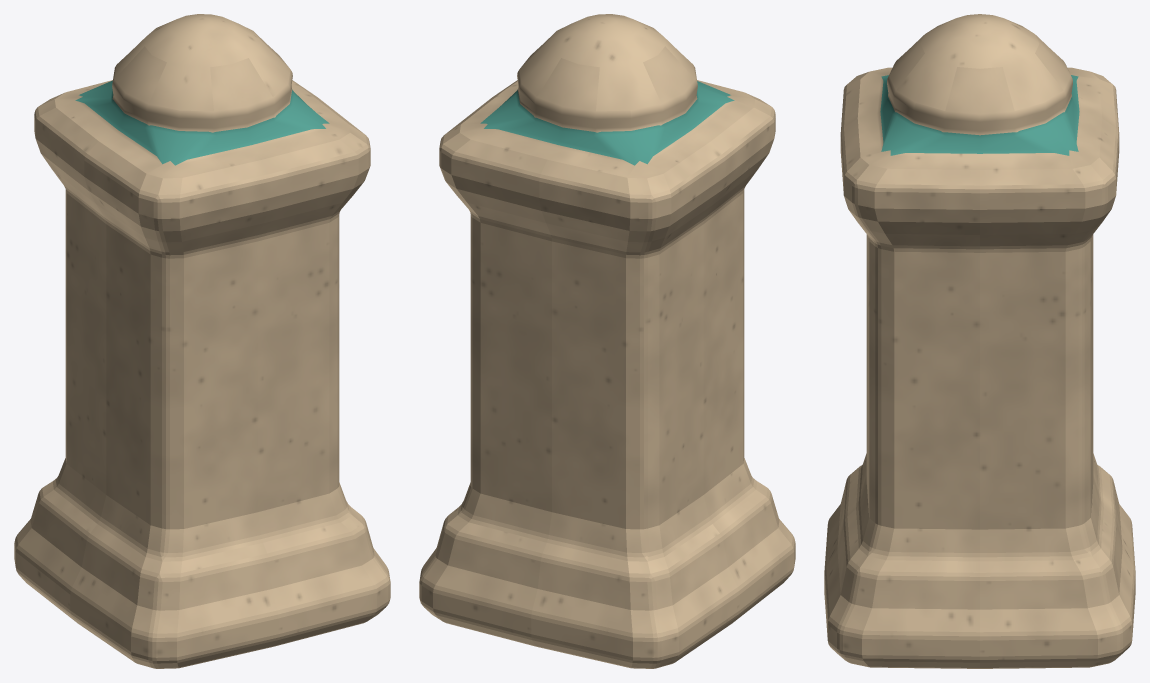
The model's file is west-post.glb.
3 renders of one model, left to right at view 1: azimuth 30°, elevation 25°; view 2: azimuth 150°, elevation 25°; view 3: azimuth 270°, elevation 25°, orthographic. The views are drawn at different scales.
Visible parts, largest first — view 1: west-post; view 2: west-post; view 3: west-post.
Part boxes in pixels (bbox=[...]): west-post: bbox=[14, 14, 390, 668]; west-post: bbox=[419, 14, 795, 668]; west-post: bbox=[824, 14, 1135, 668].
Bounding box in the file's own units: 0.492 × 1.02 × 0.492.
2 materials, 1 textured.
